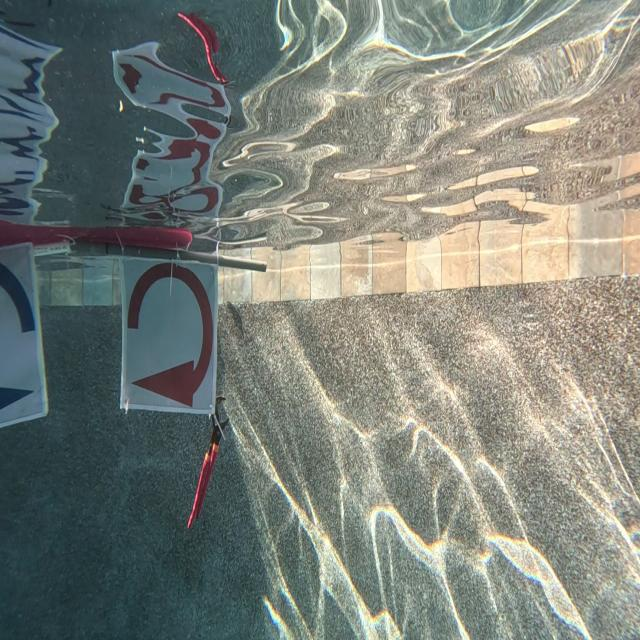blue_side: (0, 242, 40, 420)
red_side: (122, 260, 211, 408)
